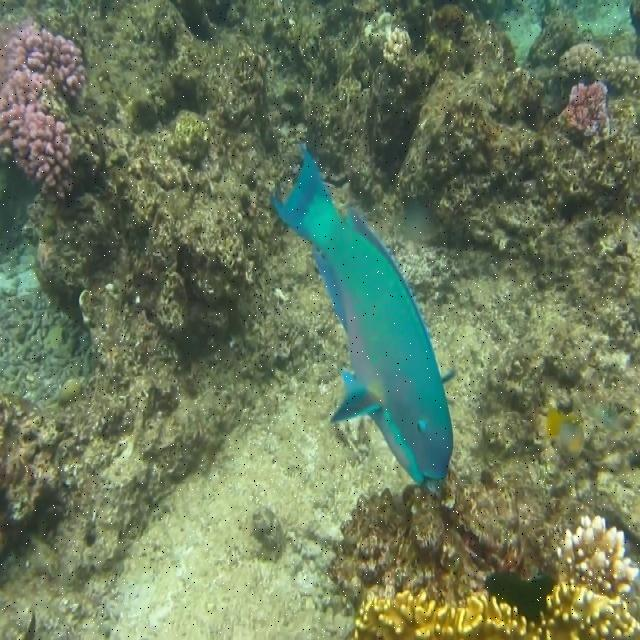fish: (272, 149, 458, 491)
reefs: (355, 515, 639, 637), (0, 17, 87, 182), (561, 81, 607, 136)
